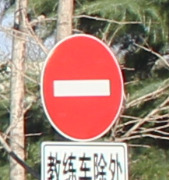no_entry: (41, 34, 125, 141)
